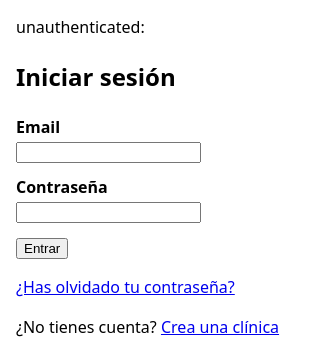
Test: LoginForm › con credenciales correctas, autentica y AuthContext pasa a authenticated
Type "admin@dev.local" into the field labelled "Email" at (108, 152), box [16, 142, 201, 163]
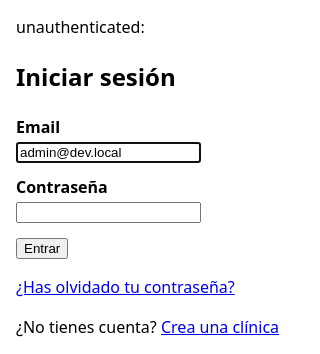
Type "dev-ficticio-2026" into the password field labelled "Contraseña" at (108, 212), box [16, 202, 201, 223]
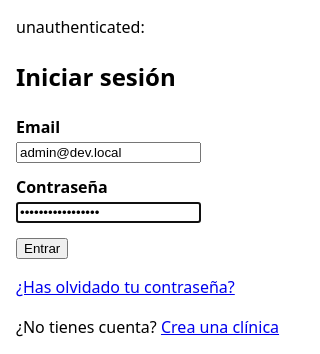
Click the button "Entrar" at (42, 248), box [16, 238, 68, 259]
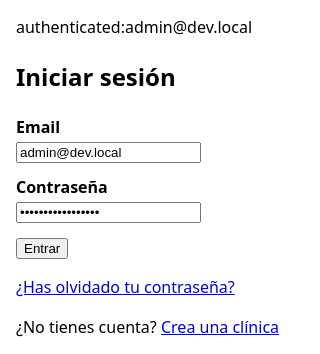
Result: the text with test id "auth-status" reads "authenticated:admin@dev.local" at [16, 16, 252, 38]
